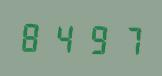eight: (18, 17, 48, 54)
four: (49, 18, 79, 55)
nine: (80, 20, 110, 57)
seven: (111, 21, 141, 58)
